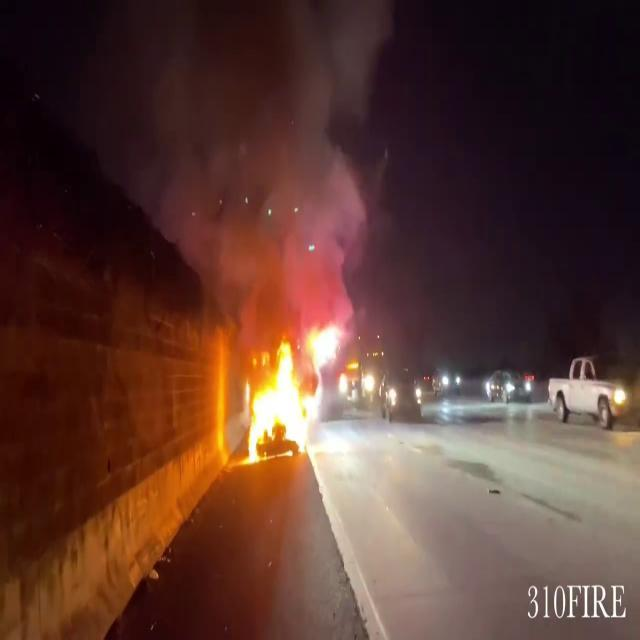Fire: (220, 334, 322, 464)
Smoke: (156, 0, 392, 332)
